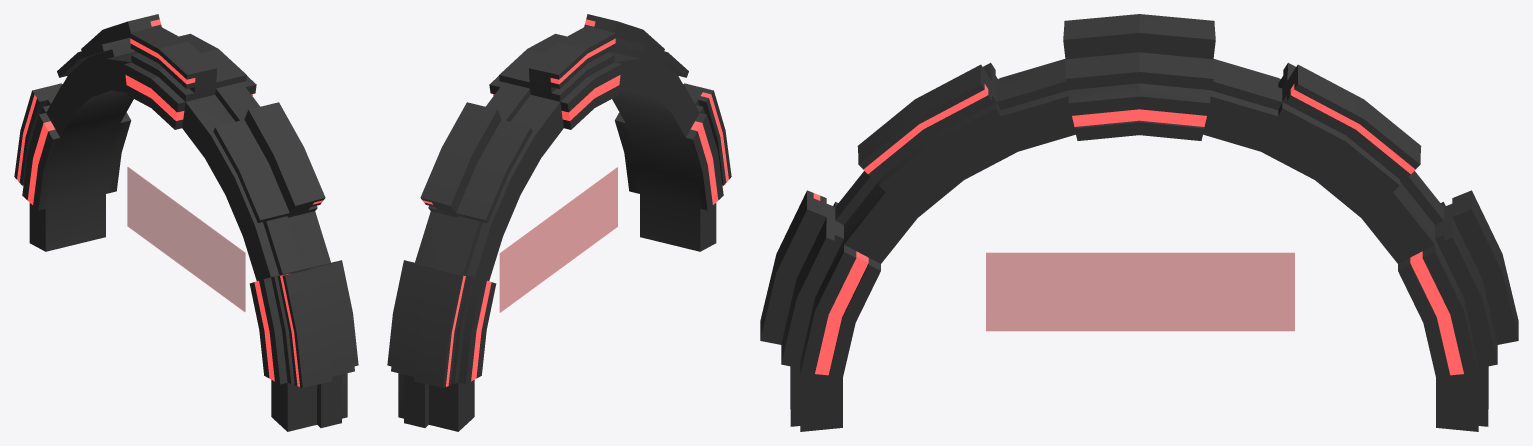
Rendered from gate_ground_red.fbx.
3 views of the same model, side by side, from view 1: azimuth 30°, elevation 25°; view 2: azimuth 150°, elevation 25°; view 3: azimuth 270°, elevation 25° (orthographic). The views are drawn at different scales.
Visible parts, largest first — view 1: gate_ground_red; view 2: gate_ground_red; view 3: gate_ground_red.
Boxes of the visible parts, x1,y1,x2,y2 form: gate_ground_red: (14,14,358,431); gate_ground_red: (387,14,731,431); gate_ground_red: (760,14,1518,431).
Bounding box in the file's own units: 1.12 × 3.95 × 7.14.
